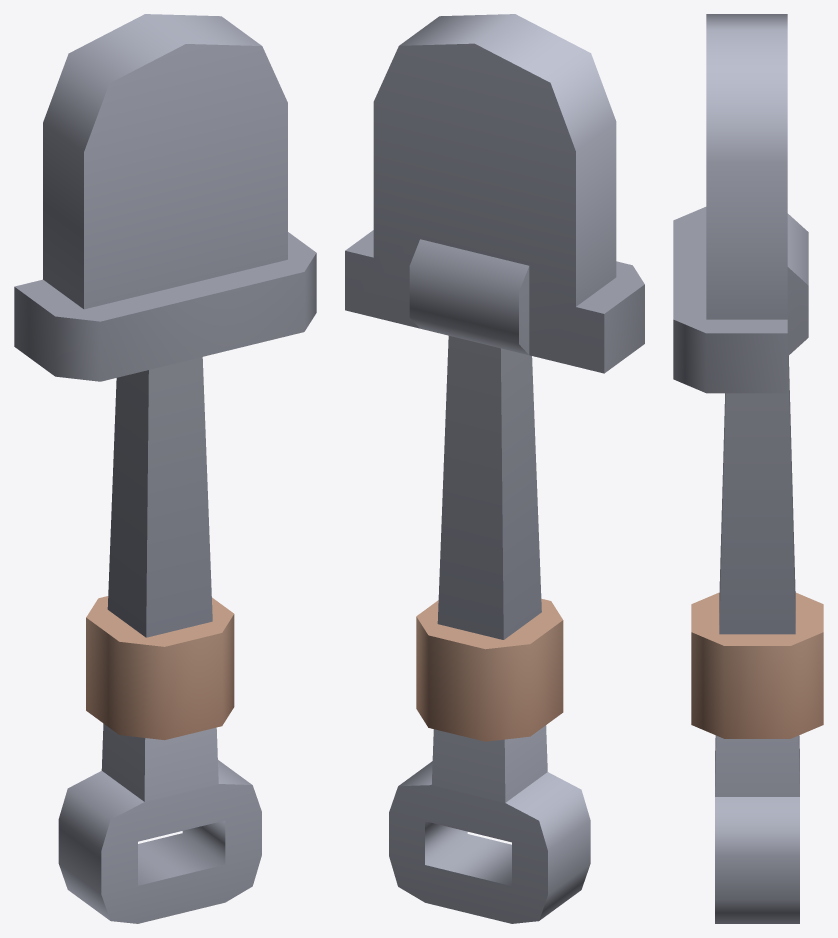
File: tool-shovel-upgraded.glb
3 renders of one model, left to right at view 1: azimuth 30°, elevation 25°; view 2: azimuth 150°, elevation 25°; view 3: azimuth 270°, elevation 25°, orthographic.
Visible parts, largest first — view 1: tool-shovel-upgraded; view 2: tool-shovel-upgraded; view 3: tool-shovel-upgraded.
Boxes of the visible parts, x1,y1,x2,y2 form: tool-shovel-upgraded: (14, 14, 316, 923); tool-shovel-upgraded: (345, 14, 644, 923); tool-shovel-upgraded: (673, 14, 823, 923).
Bounding box in the file's own units: 0.0909 × 0.29 × 0.0455.
